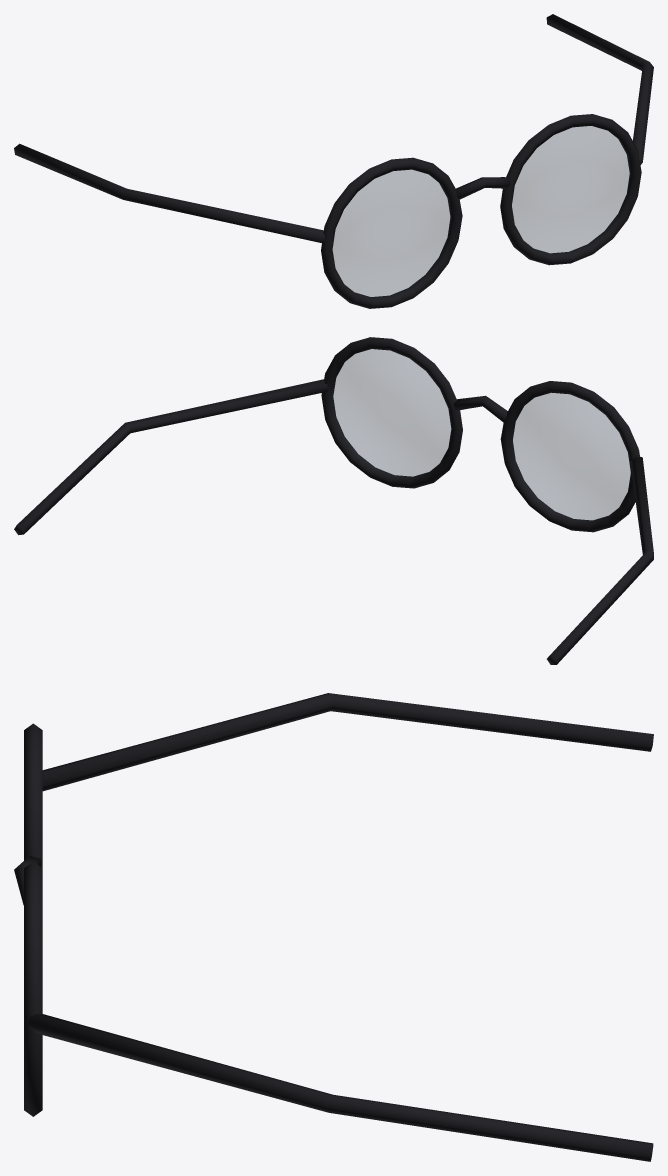
The model's file is glasses.glb.
The picture shows the model from 3 angles, top to bottom: view 1: azimuth 30°, elevation 25°; view 2: azimuth 150°, elevation 25°; view 3: azimuth 270°, elevation 25°; orthographic projection. The views are drawn at different scales.
Visible parts, largest first — view 1: glasses; view 2: glasses; view 3: glasses.
Boxes of the visible parts, x1=… form: glasses: x1=14, y1=14, x2=653, y2=308; glasses: x1=14, y1=337, x2=653, y2=664; glasses: x1=14, y1=693, x2=653, y2=1161.
Bounding box in the file's own units: 0.1997 × 0.052 × 0.1293.
